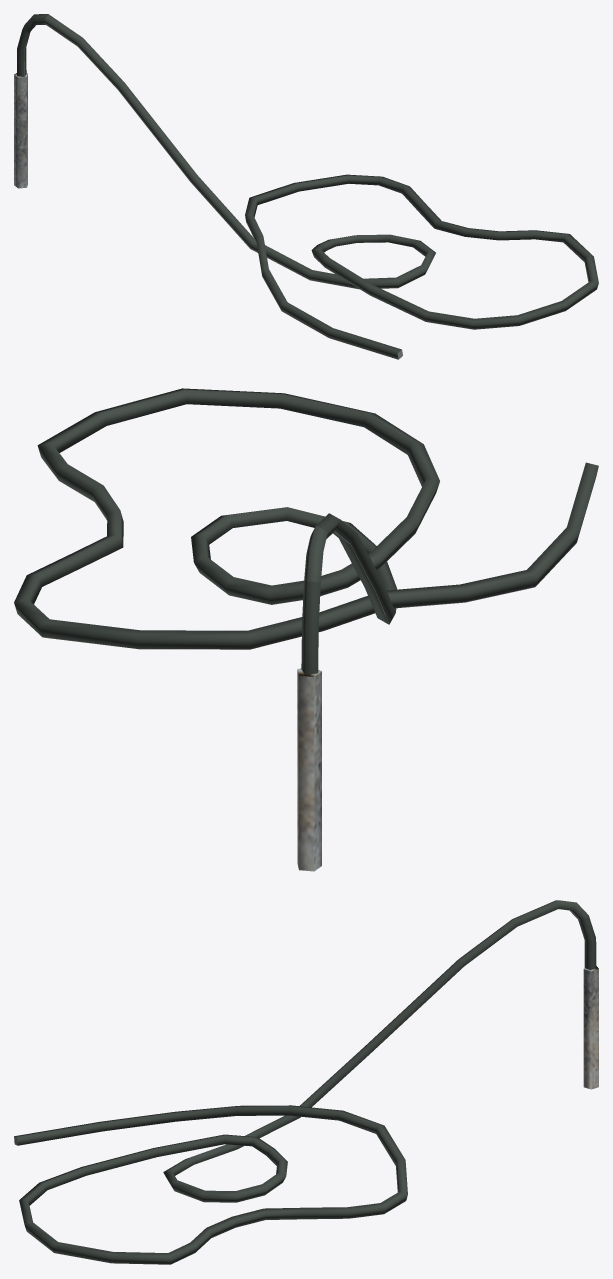
File: WaterPipes.FBX
The picture shows the model from 3 angles, top to bottom: view 1: azimuth 30°, elevation 25°; view 2: azimuth 150°, elevation 25°; view 3: azimuth 270°, elevation 25°; orthographic projection. The views are drawn at different scales.
Parts seen in each view (by area): view 1: WaterPipes; view 2: WaterPipes; view 3: WaterPipes.
Boxes of the visible parts, bbox=[...] form: WaterPipes: bbox=[14, 14, 598, 359]; WaterPipes: bbox=[14, 388, 598, 871]; WaterPipes: bbox=[14, 900, 598, 1264].
Bounding box in the file's own units: 149 × 73.28 × 199.
